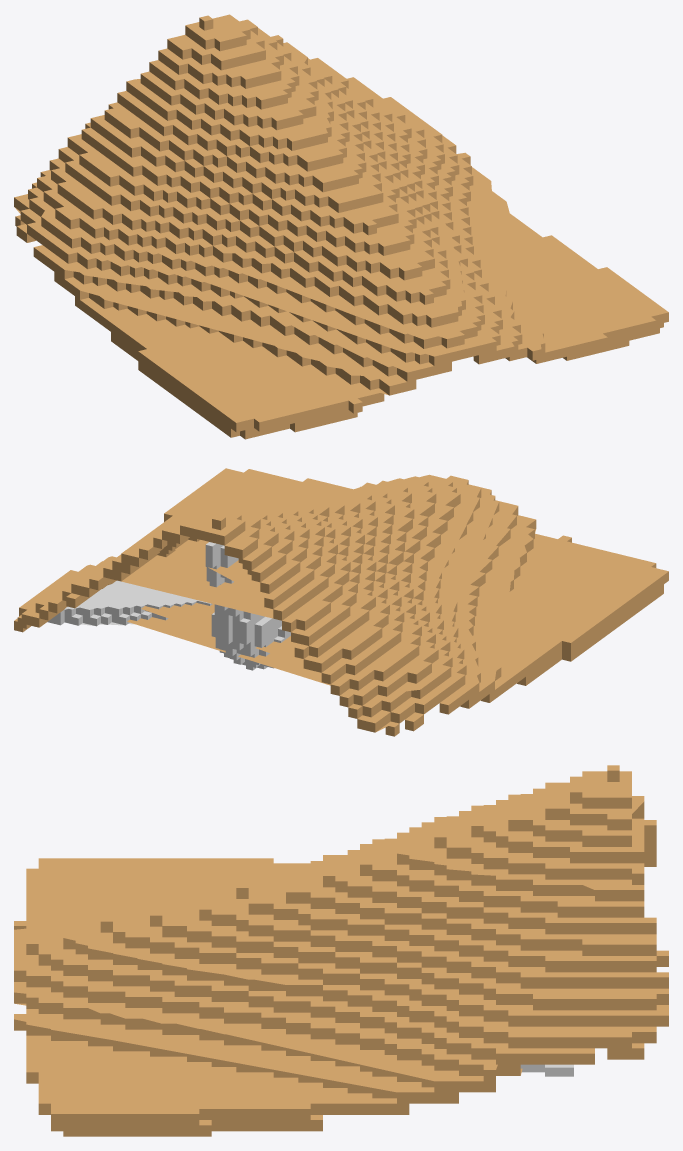
3 views of the same model, one above another, from view 1: azimuth 30°, elevation 25°; view 2: azimuth 150°, elevation 25°; view 3: azimuth 270°, elevation 25° (orthographic). The views are drawn at different scales.
Parts seen in each view (by area): view 1: Plane; view 2: Plane; view 3: Plane.
Boxes of the visible parts, box(x1,y1,x2,y2) form: Plane: box(14, 14, 668, 439); Plane: box(14, 468, 668, 736); Plane: box(14, 765, 668, 1136).
Bounding box in the file's own units: 1886 × 808 × 2040.
